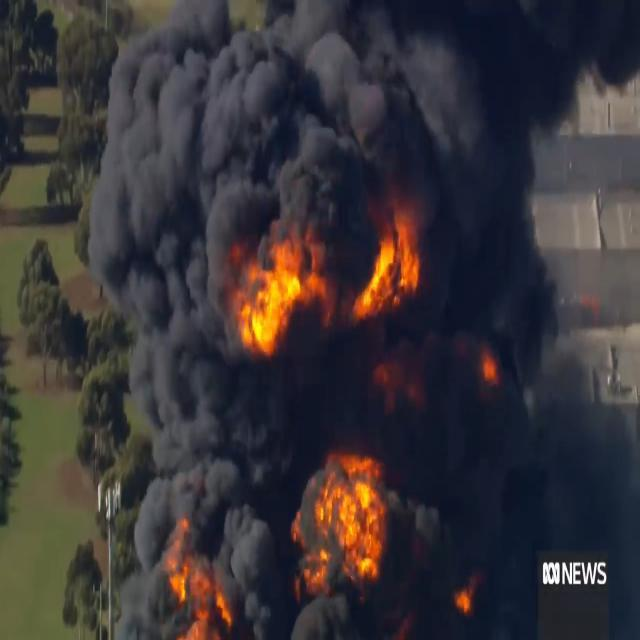fire: (295, 448, 386, 607), (358, 209, 426, 324), (238, 246, 305, 355), (166, 537, 232, 637), (452, 582, 482, 622), (480, 350, 502, 390)
